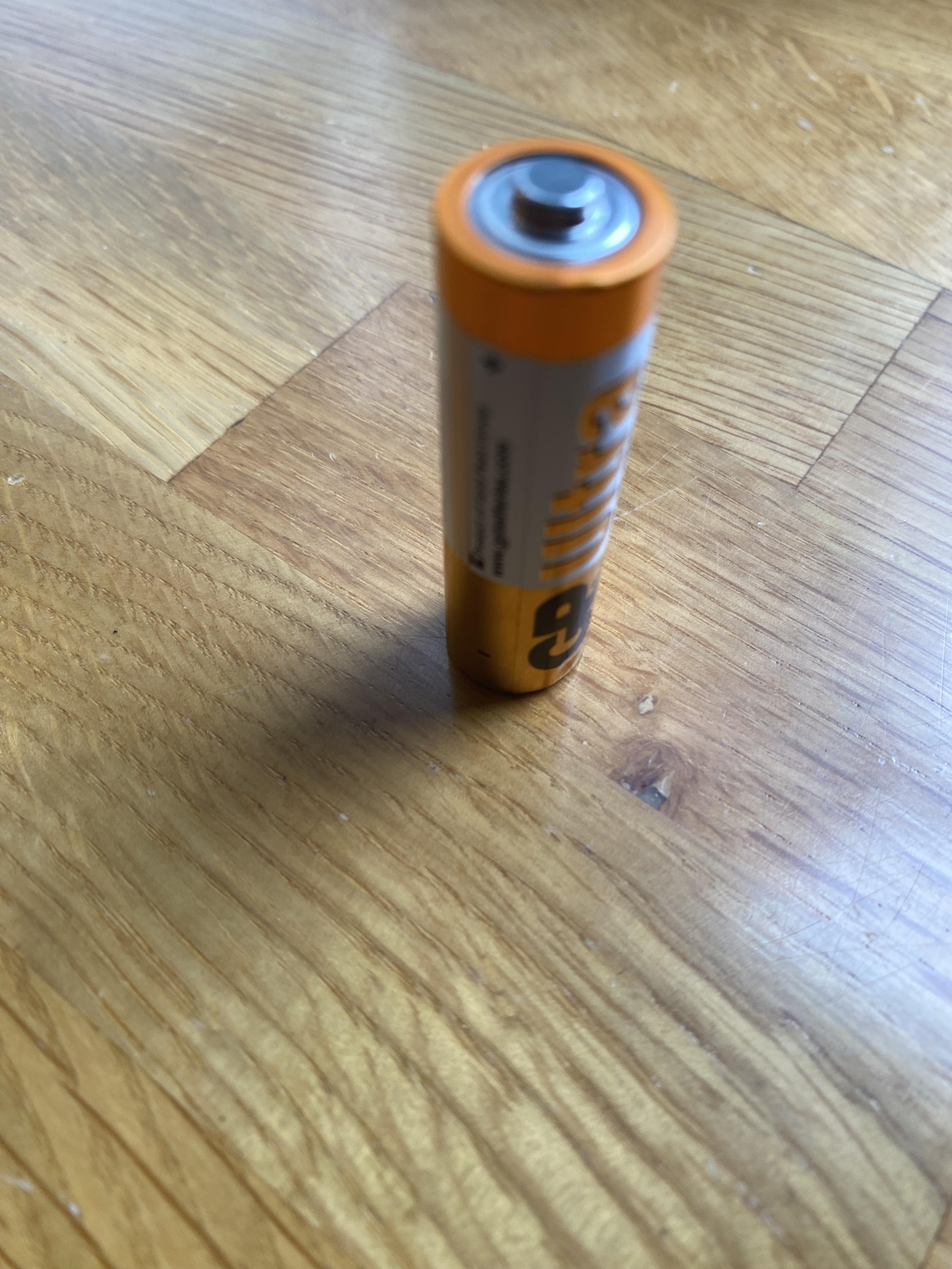AA: (432, 135, 679, 696)
